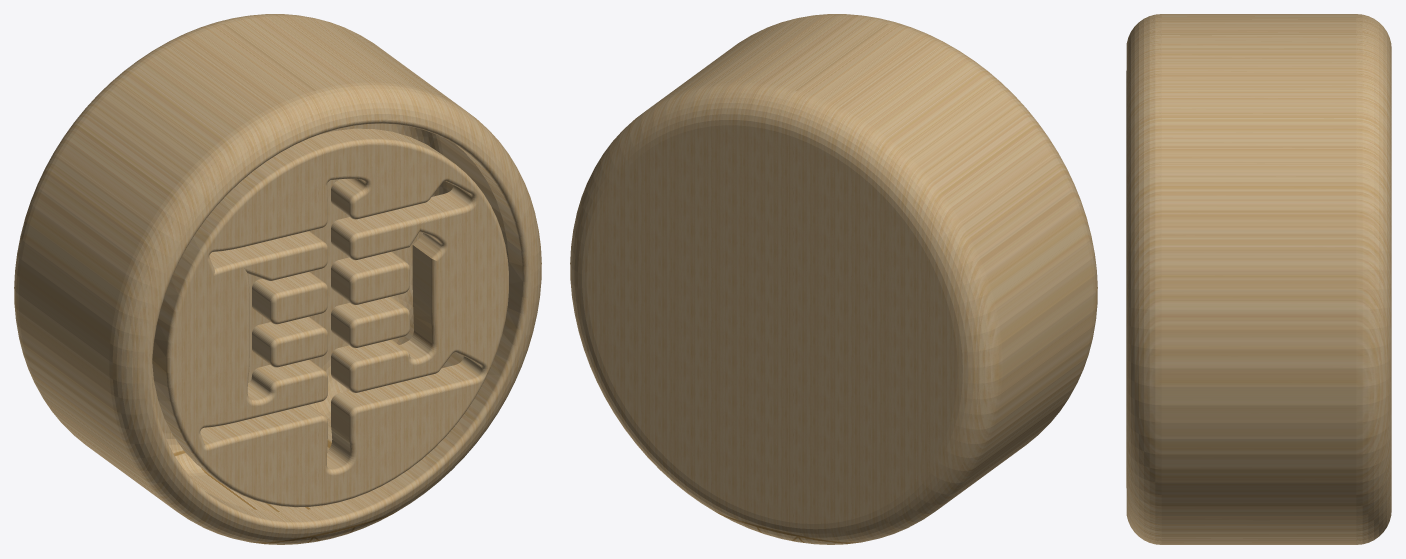
Rendered from h01_chess_black_chariot_wood.obj.
3 renders of one model, left to right at view 1: azimuth 30°, elevation 25°; view 2: azimuth 150°, elevation 25°; view 3: azimuth 270°, elevation 25°, orthographic. The views are drawn at different scales.
Size of the model in its own units: 0.03 by 0.03 by 0.015.
Materials: 1 (1 with a texture image).
